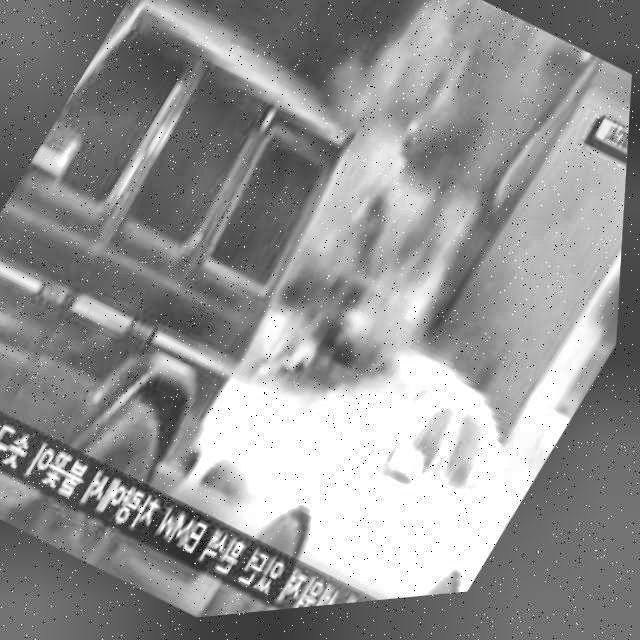Fire: (191, 8, 547, 423)
